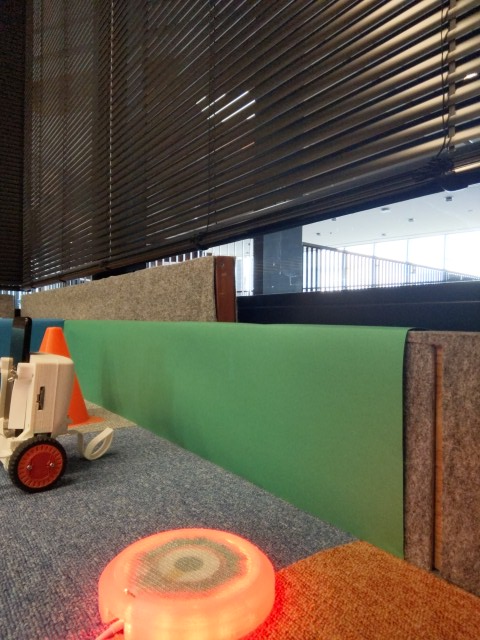bl: (1, 311, 118, 496)
r: (98, 524, 278, 638)
